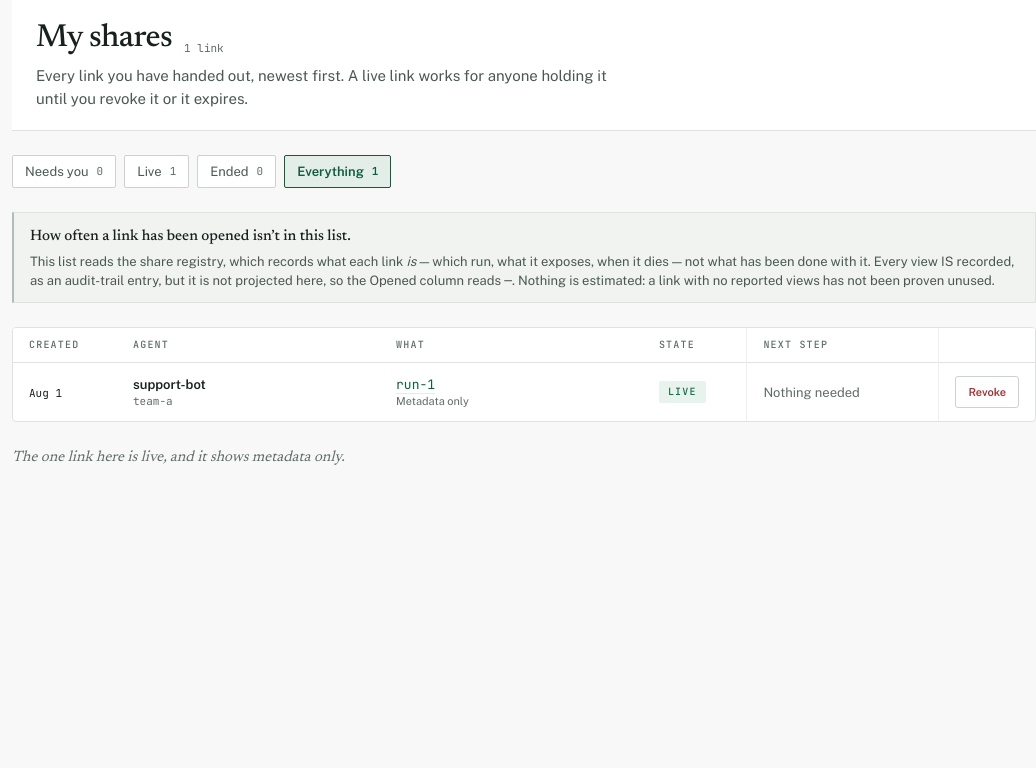
MySharesPage — Revoke action (V13) › surfaces an error toast when the revoke fails, and re-enables the button
Click the button with test id "revoke-s1" at (987, 392), box [955,376,1019,408]
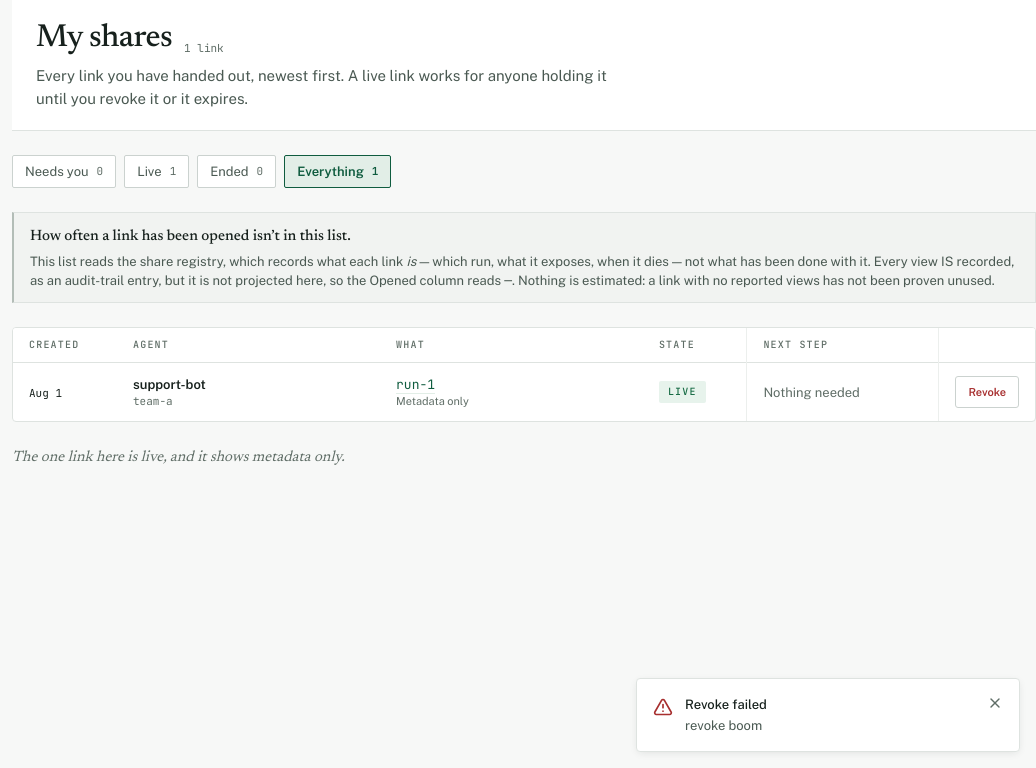
Expected: the text "Revoke failed" is shown, [685,697,767,712]
